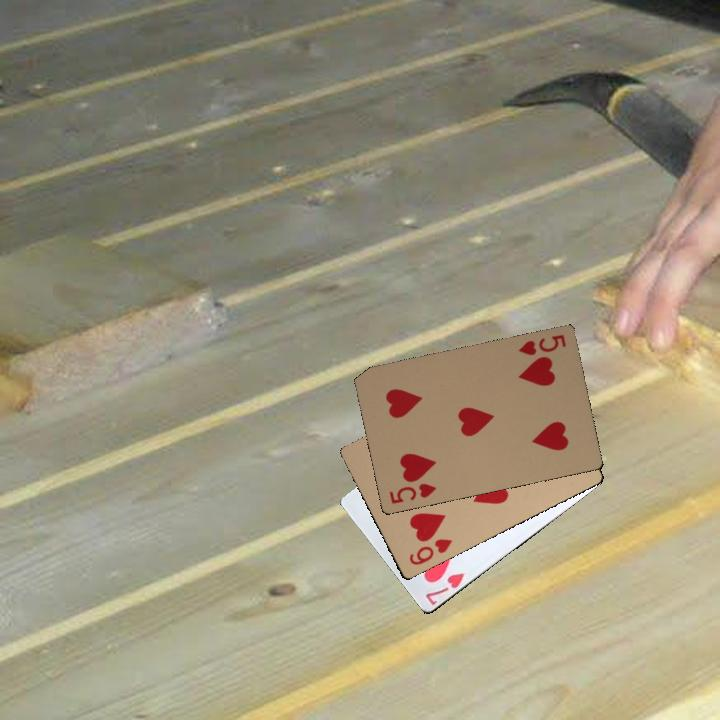5h: (515, 330, 568, 358), (385, 479, 439, 506)
6h: (405, 534, 454, 568)
7h: (421, 568, 467, 608)
